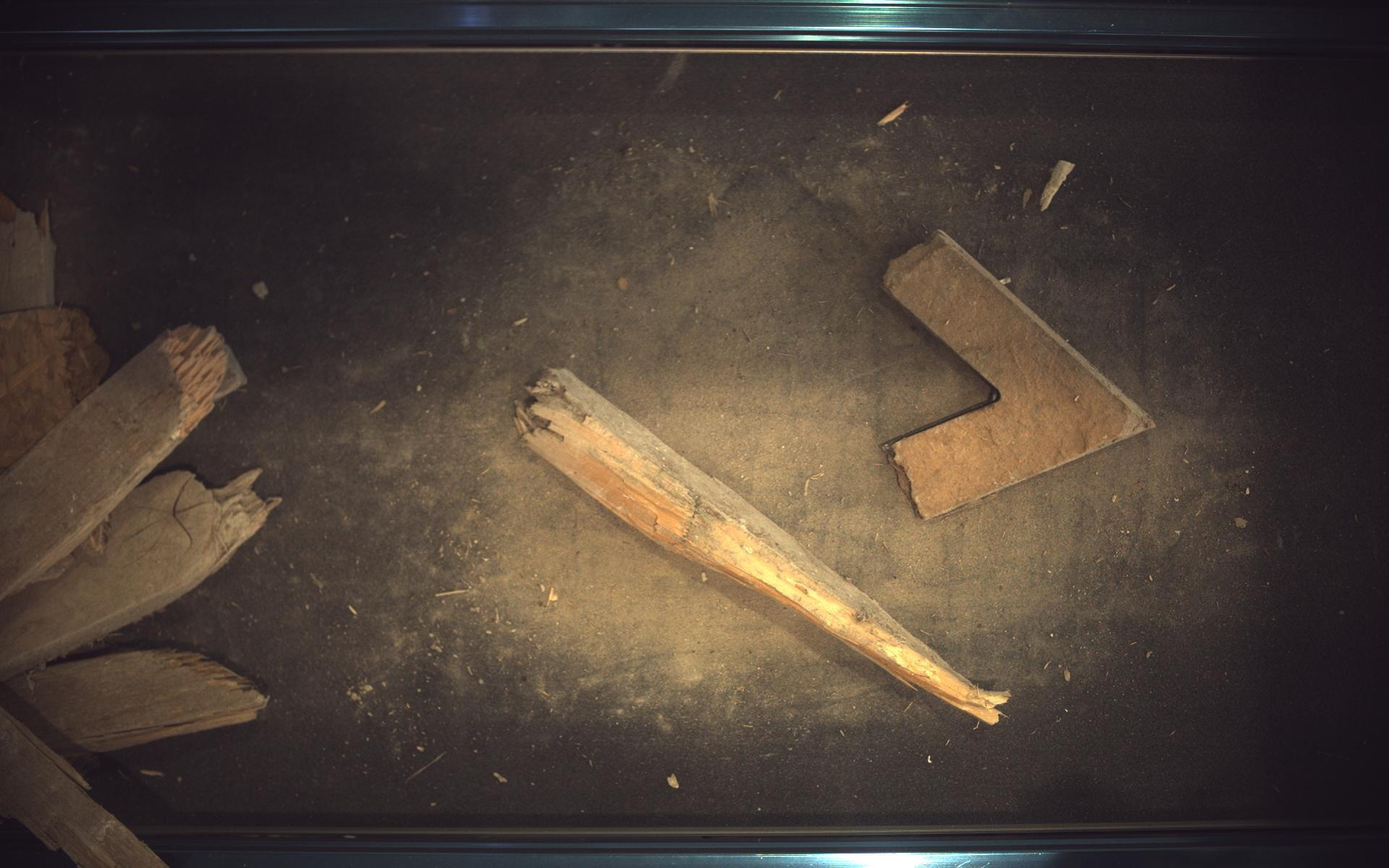wood: (515, 369, 1011, 726), (885, 230, 1157, 519), (2, 324, 246, 600)
